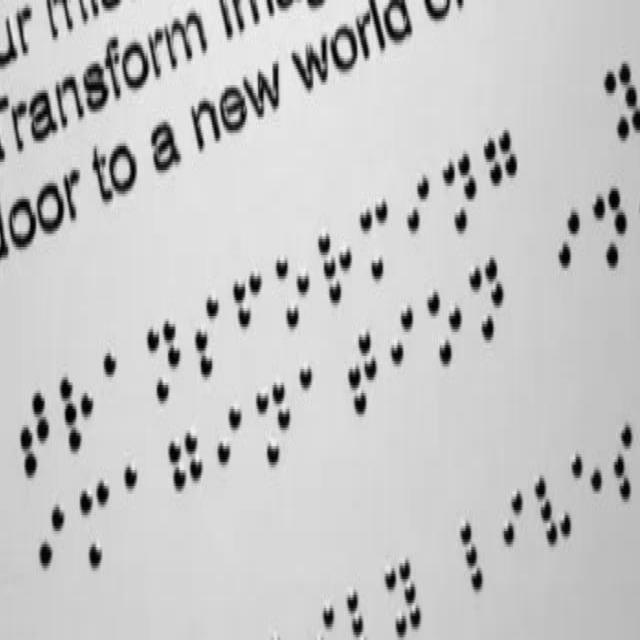braiile: (547, 183, 600, 329), (29, 483, 82, 621), (586, 164, 636, 293), (311, 197, 362, 323), (249, 366, 303, 485), (393, 149, 444, 271), (12, 370, 60, 498), (435, 133, 489, 246), (52, 346, 102, 468), (338, 310, 388, 432), (478, 111, 529, 230), (422, 264, 471, 387), (528, 443, 577, 566), (378, 283, 428, 401), (184, 272, 232, 394), (270, 224, 318, 346), (207, 386, 257, 503), (228, 252, 277, 371), (162, 414, 212, 530), (141, 300, 190, 418), (453, 491, 501, 611), (294, 337, 341, 459), (355, 180, 404, 296), (464, 241, 513, 356), (76, 466, 123, 583), (99, 331, 144, 438), (119, 441, 161, 555), (380, 545, 427, 640)
